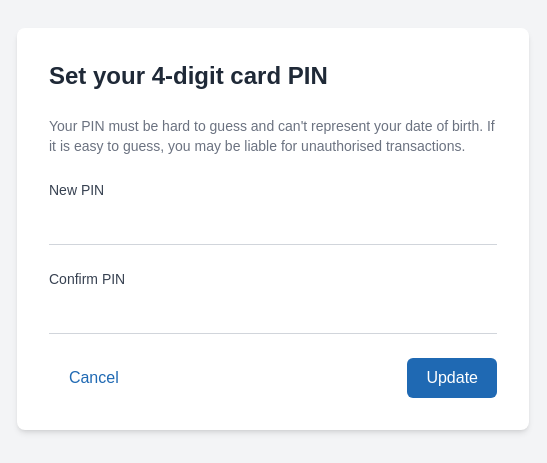
it: CardFormComponent › displays error when PIN is not 4 digits
This screenshot has width=547, height=463.
Type "123" into the password field labelled "New PIN" at (273, 224), box [49,204,497,245]
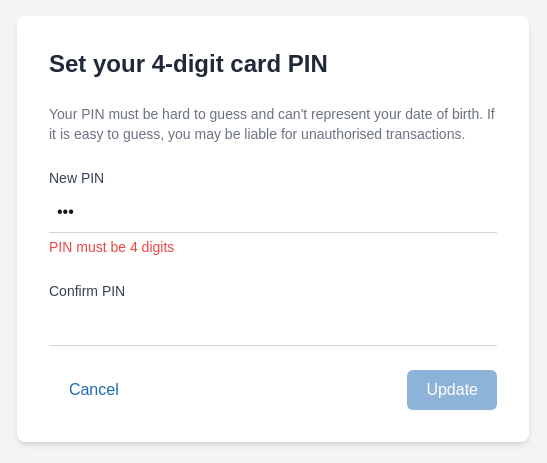
Now the text "PIN must be 4 digits" is shown, box [49,239,174,255]
